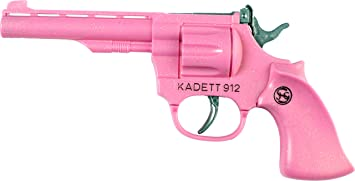Arma Falsa: (1, 1, 355, 180)
